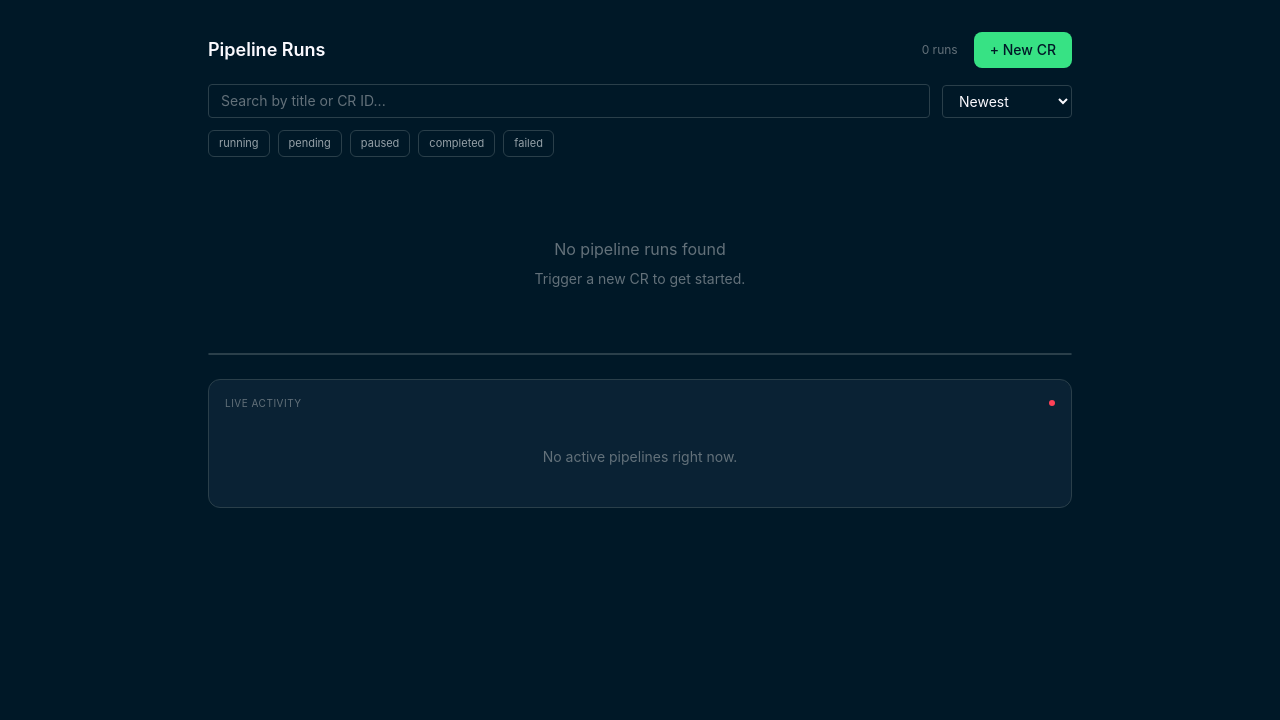
Test: CRListPage › opens the creation dialog when '+ New CR' button is clicked
Click the button "+ New CR" at point(1023, 50), box top-left (974, 32), bottom-right (1072, 68)
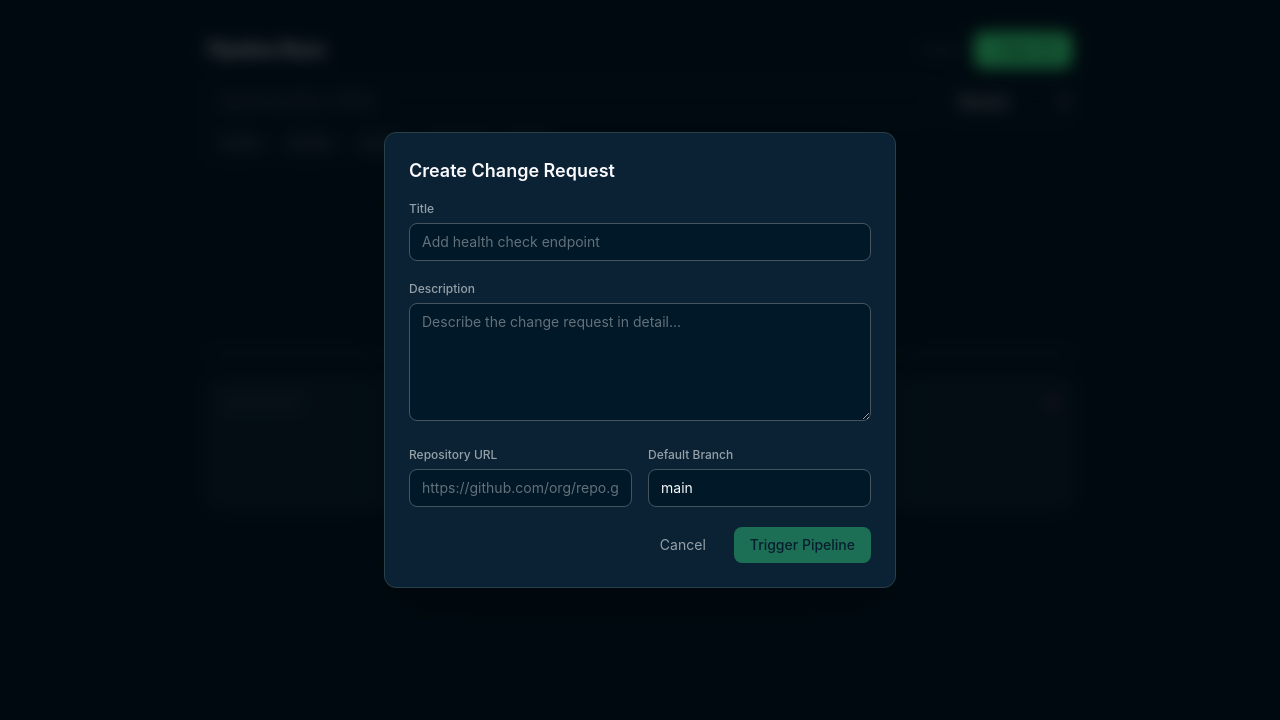
Expected: the dialog is shown, top-left (384, 132), bottom-right (896, 588)
Expected: the heading "Create Change Request" is shown, top-left (409, 160), bottom-right (615, 181)
